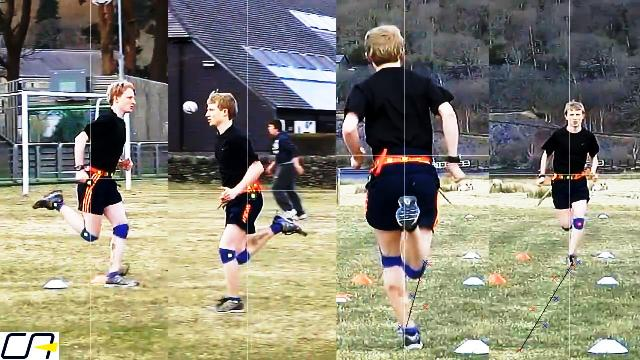berlari: (342, 21, 464, 357), (191, 76, 311, 320), (27, 76, 151, 290), (536, 99, 606, 269)
